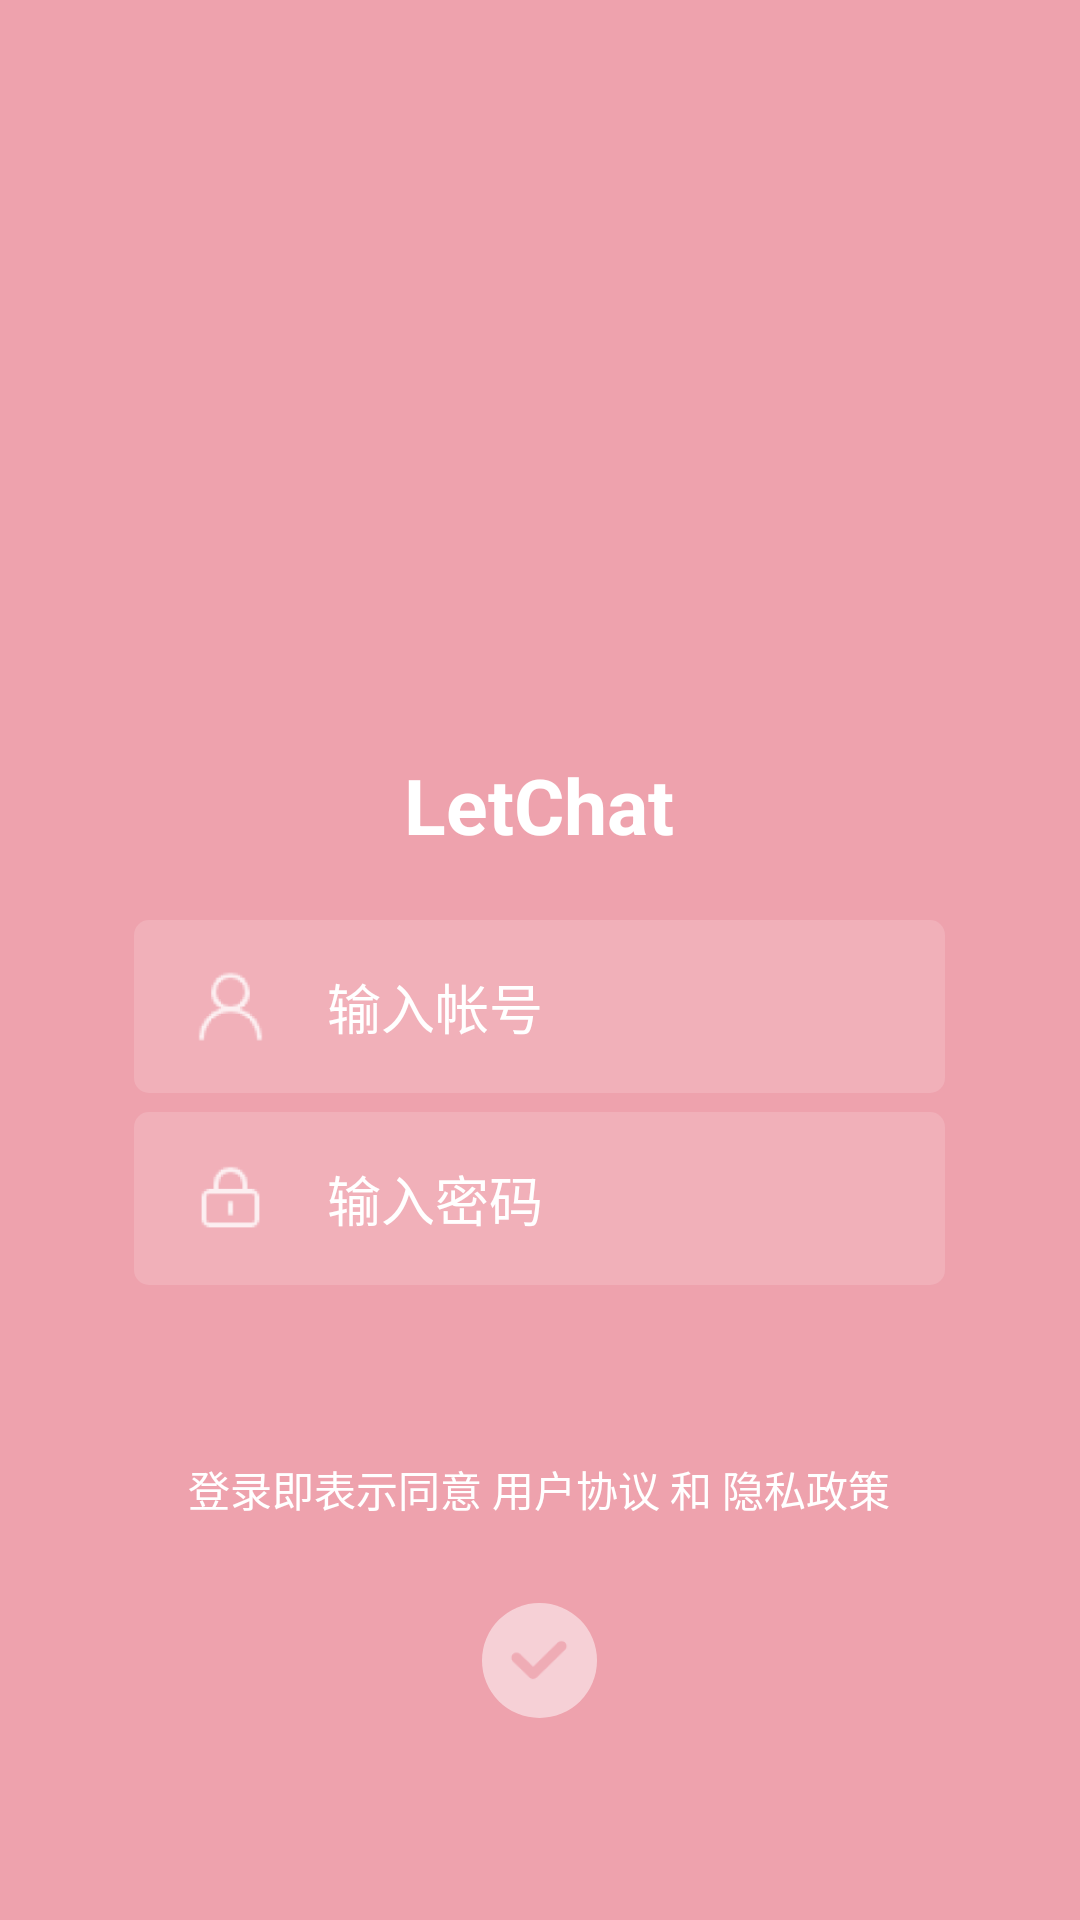

Screen size 1080x1920. Icon name, then its center in pixels as point (x, y):
account: point (230, 1006)
password: point (230, 1197)
